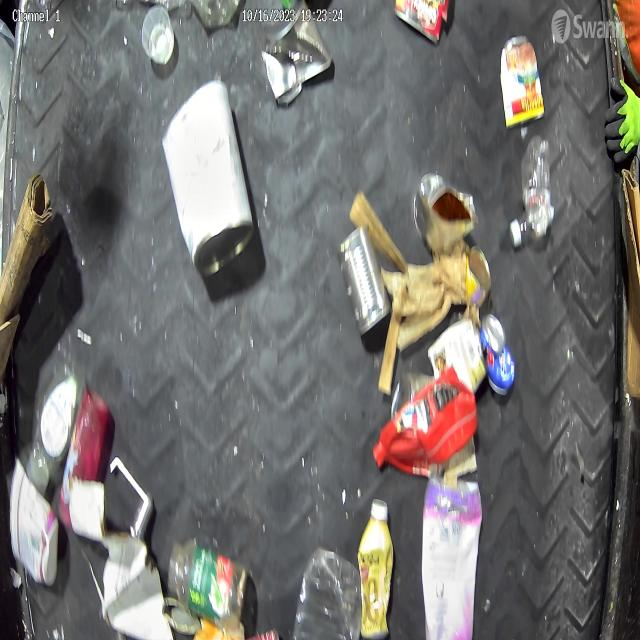can: (161, 79, 256, 279), (262, 0, 334, 108), (337, 222, 392, 339), (413, 170, 477, 252), (499, 32, 546, 130), (478, 311, 517, 398), (466, 243, 493, 310)
non_white_jug: (373, 364, 479, 478)
plastic_bottle: (508, 130, 555, 251)
